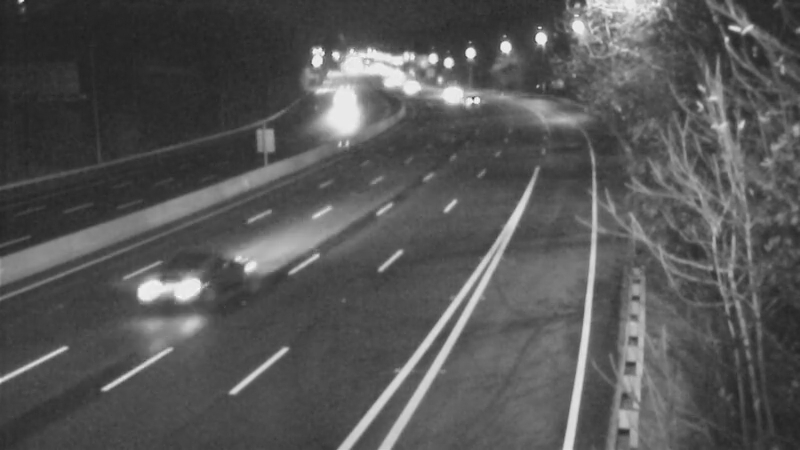vehicle: (141, 257, 221, 337), (422, 70, 472, 120), (441, 76, 491, 126), (316, 82, 366, 132)
